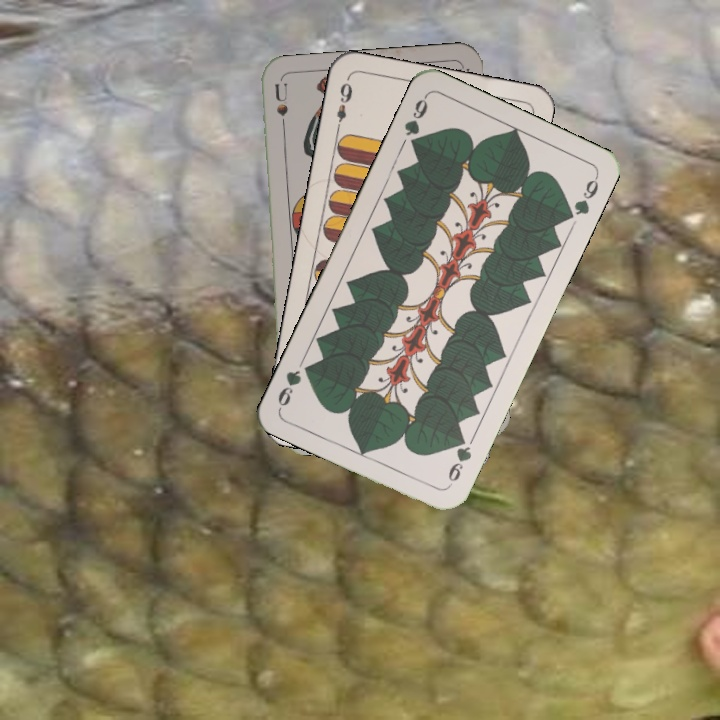E9: (332, 78, 355, 134)
G9: (400, 92, 431, 152), (444, 431, 474, 489)
SU: (271, 80, 291, 140)
